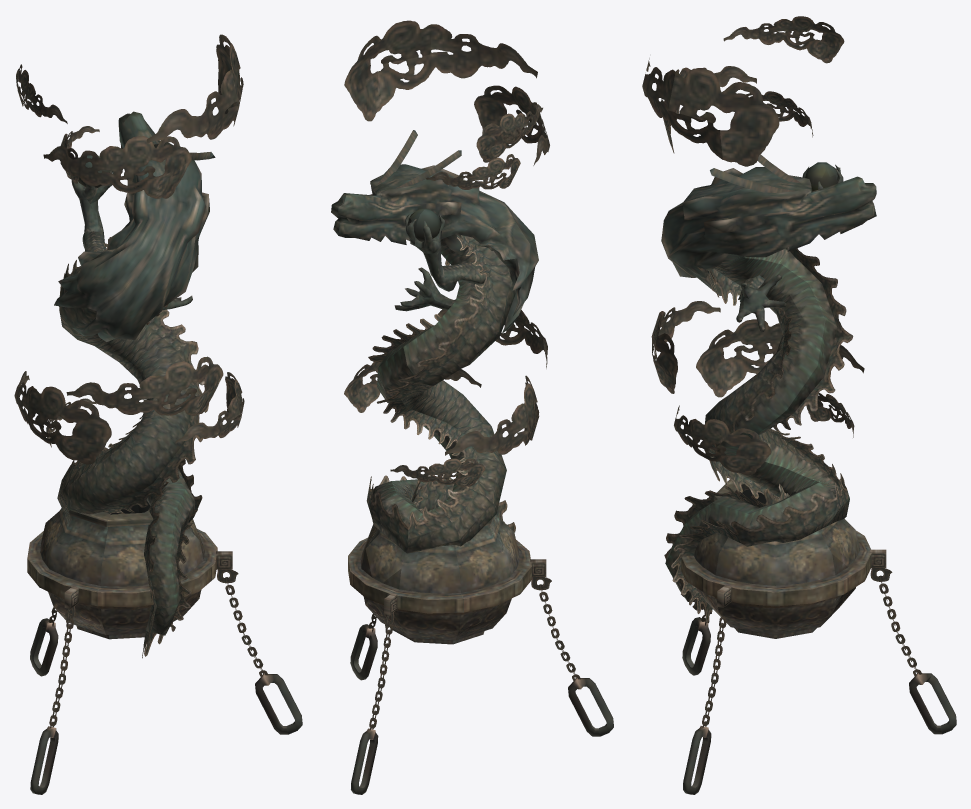
File: GYxinshoucunlong.FBX
The picture shows the model from 3 angles, left to right: view 1: azimuth 30°, elevation 25°; view 2: azimuth 150°, elevation 25°; view 3: azimuth 270°, elevation 25°; orthographic projection. The views are drawn at different scales.
Parts seen in each view (by area): view 1: party_01; view 2: party_01; view 3: party_01.
Boxes of the visible parts, <box> form: party_01: <box>14,34,302,794</box>; party_01: <box>331,20,613,794</box>; party_01: <box>642,16,956,794</box>.
Size of the model in its own units: 125 by 306 by 124.
